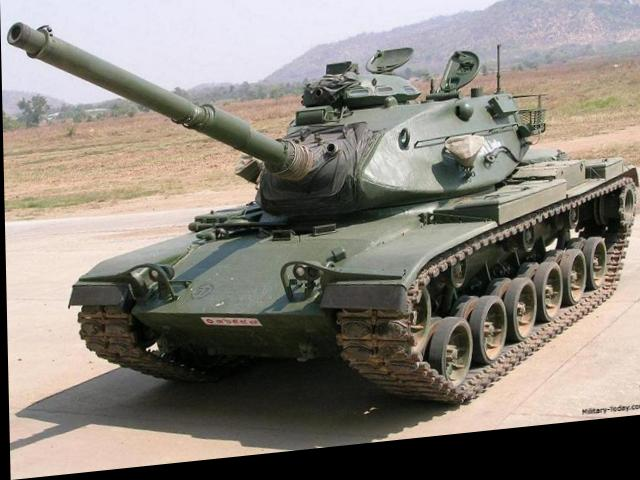tank: (92, 45, 640, 394)
